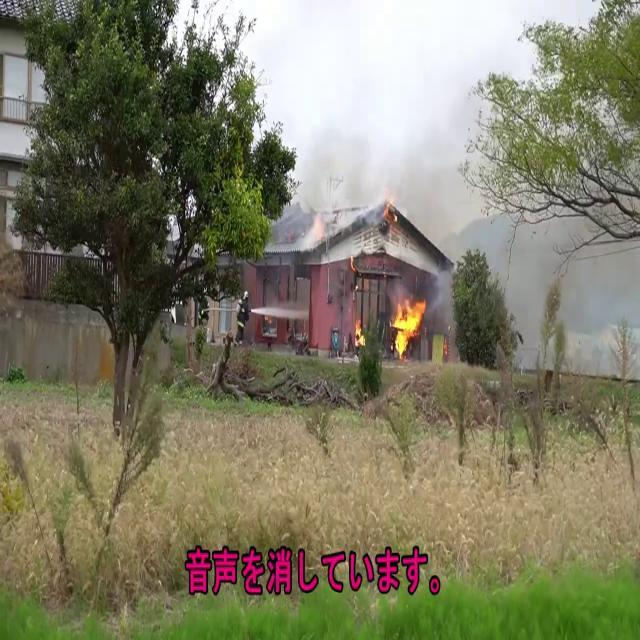Fire: (390, 286, 428, 356), (351, 312, 367, 355)
Smoke: (288, 2, 477, 248), (458, 169, 639, 359)
